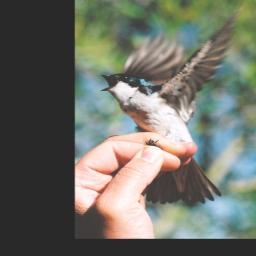Swallow: (98, 1, 247, 206)
